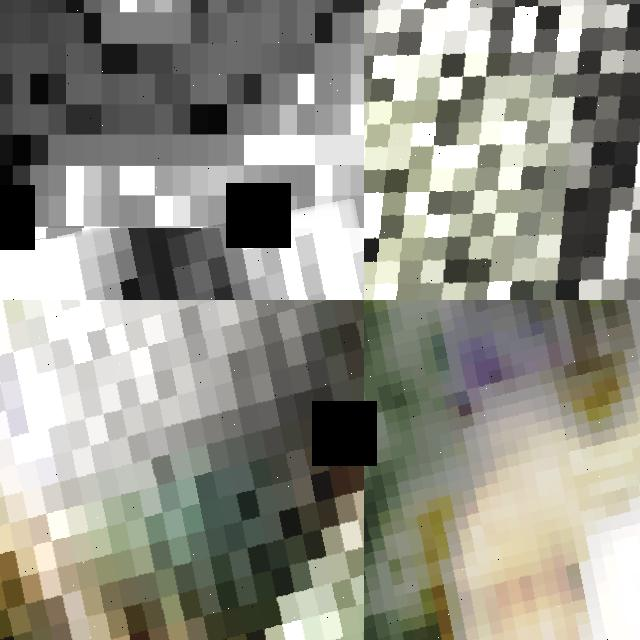arms: (0, 300, 364, 640), (364, 300, 640, 640), (364, 0, 640, 300), (364, 0, 640, 109), (0, 228, 364, 300)
